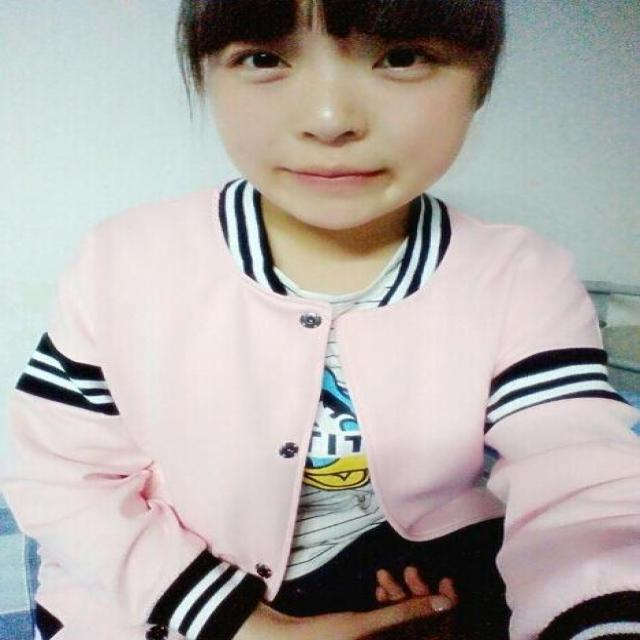long sleeve outwear: (1, 176, 321, 639)
